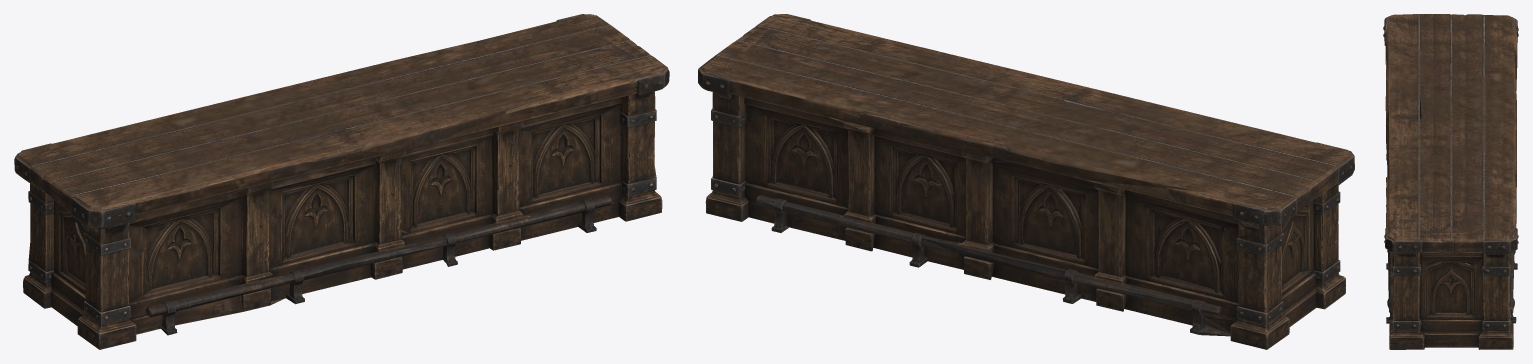
Rendered from tavern_counter.glb.
The picture shows the model from 3 angles, left to right: view 1: azimuth 30°, elevation 25°; view 2: azimuth 150°, elevation 25°; view 3: azimuth 270°, elevation 25°; orthographic projection. The views are drawn at different scales.
Parts seen in each view (by area): view 1: Mesh_0; view 2: Mesh_0; view 3: Mesh_0.
Boxes of the visible parts, x1=… form: Mesh_0: x1=14, y1=14, x2=669, y2=349; Mesh_0: x1=698, y1=14, x2=1354, y2=349; Mesh_0: x1=1383, y1=14, x2=1518, y2=349.
Size of the model in its own units: 1.9 by 0.4459 by 0.4794.
Materials: 1 (1 with a texture image).
